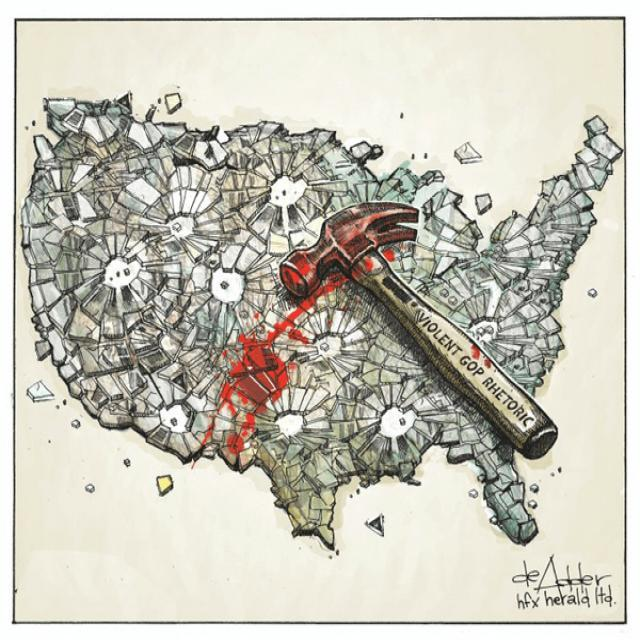hammer: (266, 194, 564, 466)
